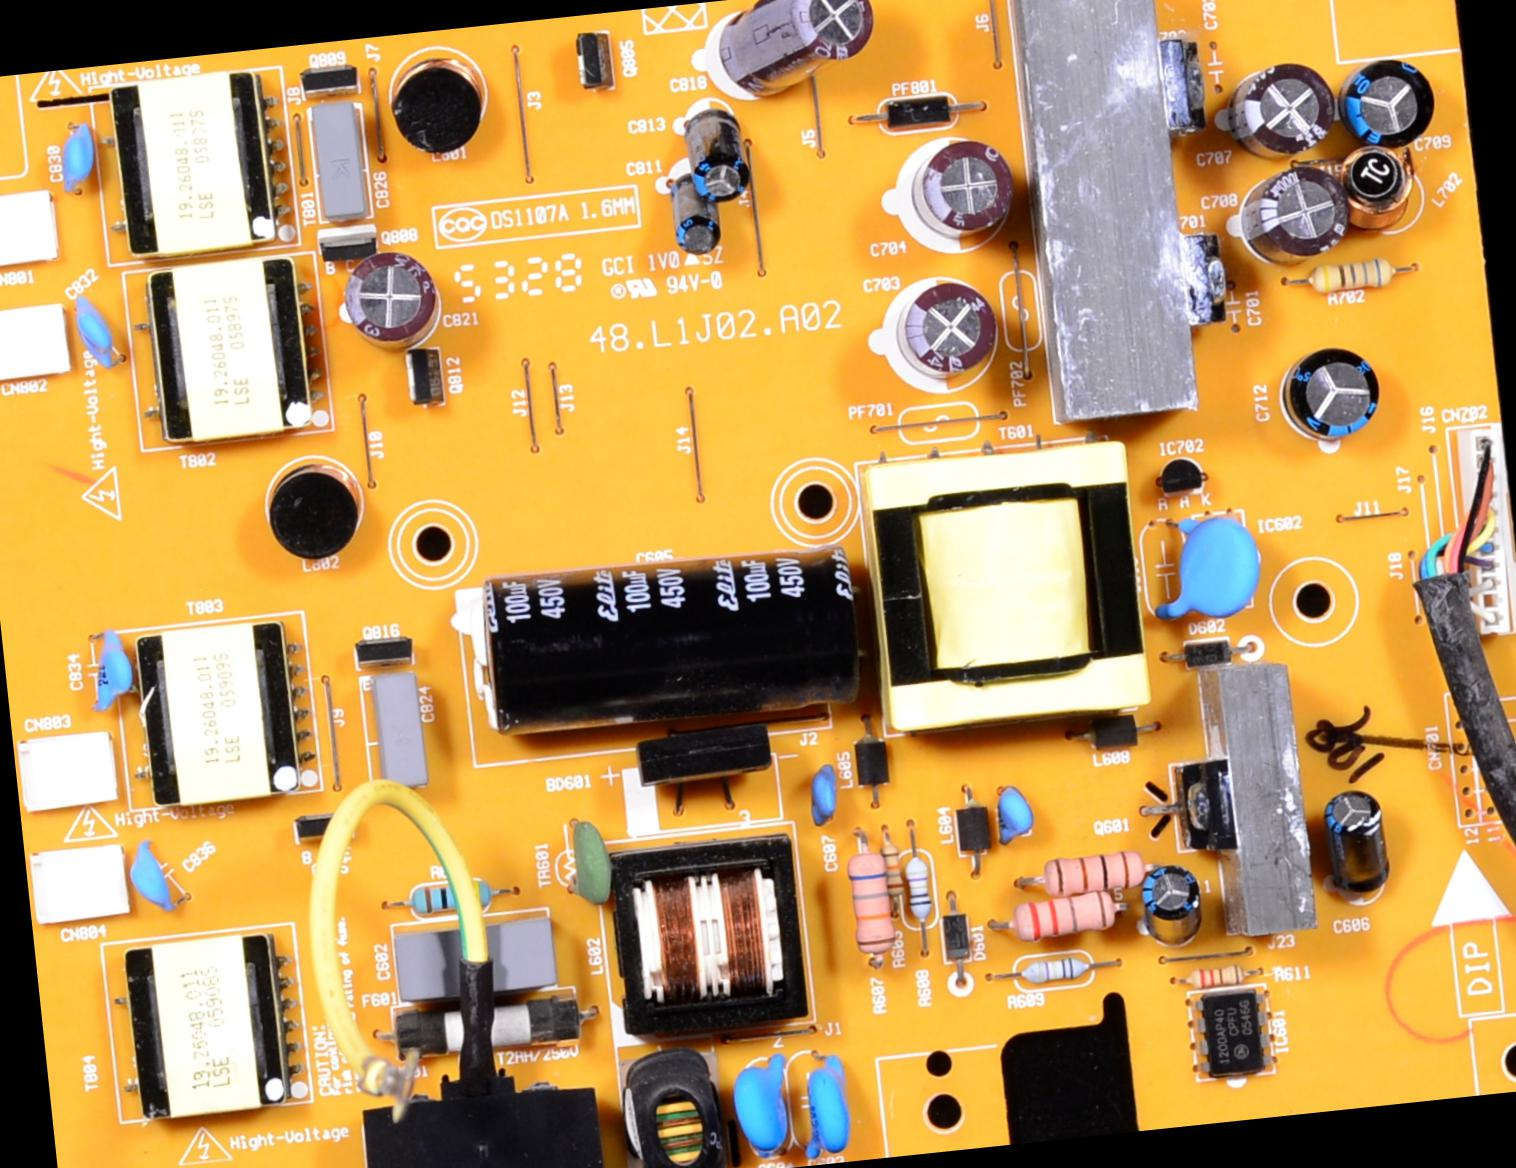Capacitor Jumper: (482, 535, 882, 753), (395, 908, 570, 1001), (718, 0, 870, 107), (1153, 504, 1257, 639), (1285, 340, 1386, 455), (1229, 56, 1336, 164), (334, 248, 439, 350), (900, 281, 993, 393), (910, 139, 1018, 232), (1246, 162, 1347, 259), (1337, 54, 1434, 148), (1325, 788, 1395, 898), (735, 1055, 803, 1164), (660, 169, 732, 265), (63, 283, 126, 386), (800, 1051, 863, 1150), (687, 106, 749, 202), (1137, 863, 1202, 940), (125, 838, 184, 919), (83, 632, 140, 715), (990, 772, 1040, 854), (54, 125, 104, 195), (805, 763, 850, 820)
Connector: (11, 720, 146, 822), (23, 831, 155, 935), (22, 824, 164, 916), (11, 715, 134, 816), (0, 179, 107, 283), (0, 299, 71, 400)
IC: (1184, 988, 1300, 1099)
Resistor Jumper: (1000, 887, 1141, 951), (1281, 249, 1403, 307), (1039, 850, 1154, 904), (846, 844, 893, 967), (871, 848, 926, 941), (401, 875, 503, 925), (902, 851, 953, 939), (1174, 955, 1276, 997), (1016, 946, 1101, 995)
Transistor: (396, 341, 449, 423), (575, 18, 623, 98), (297, 63, 366, 103)
